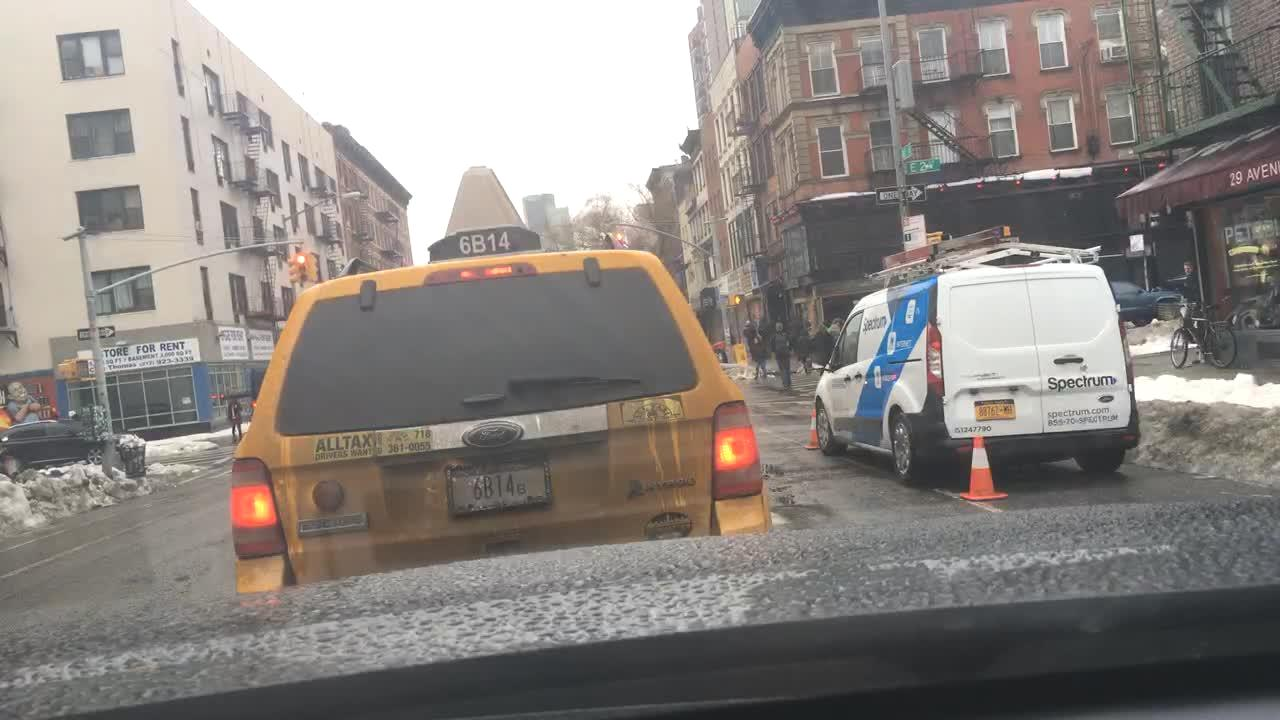ford: (460, 419, 527, 453)
